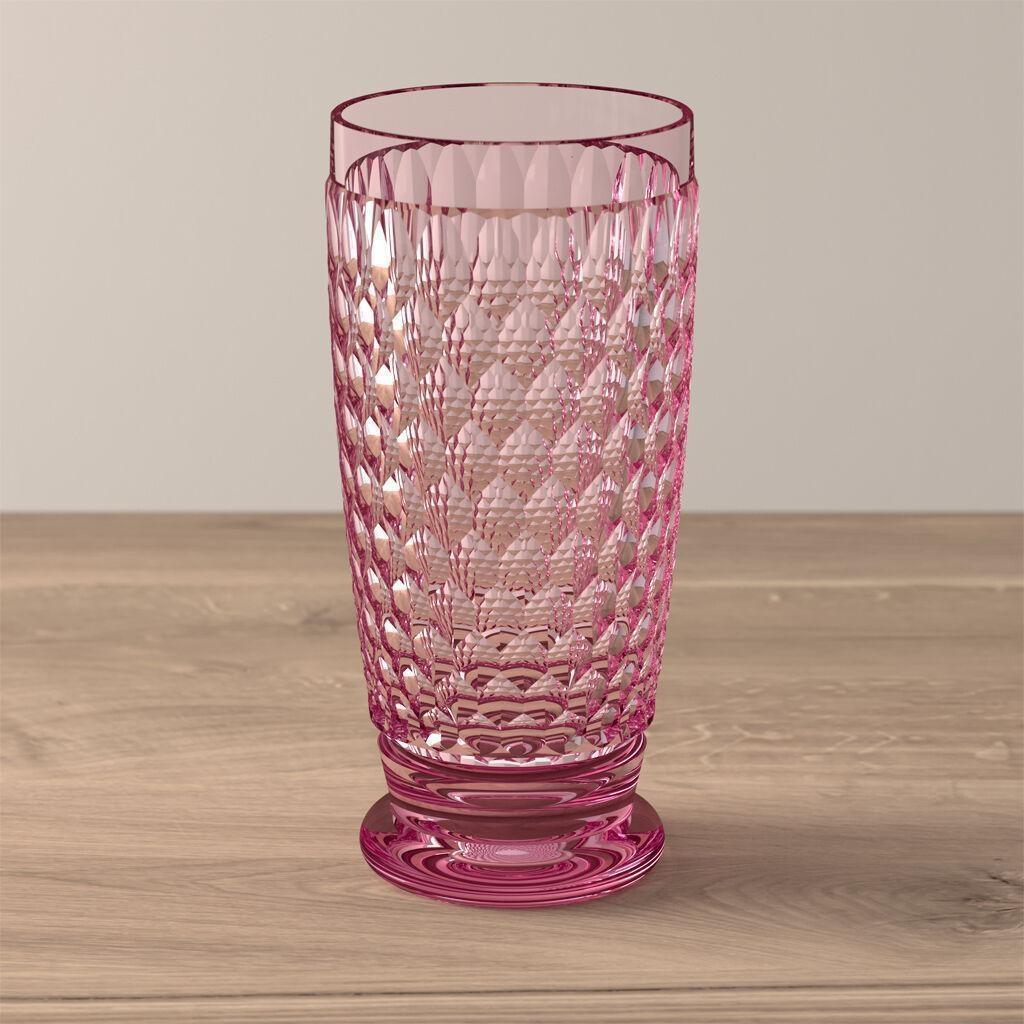glass-normal: (319, 79, 704, 918)
